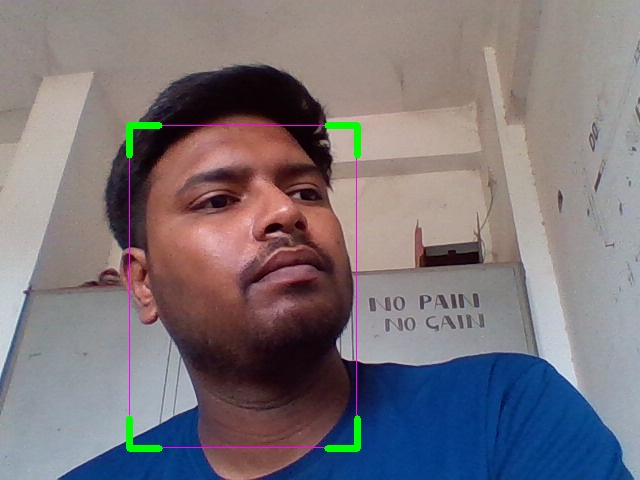real: (129, 125, 357, 448)
